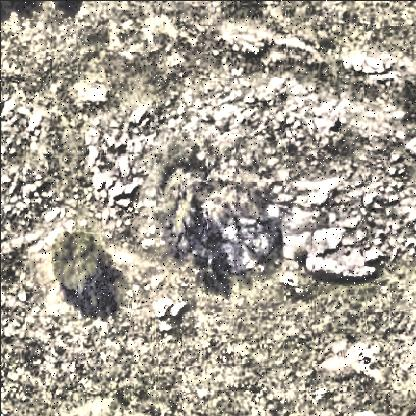tree-top: (147, 126, 282, 236), (43, 225, 113, 293)
